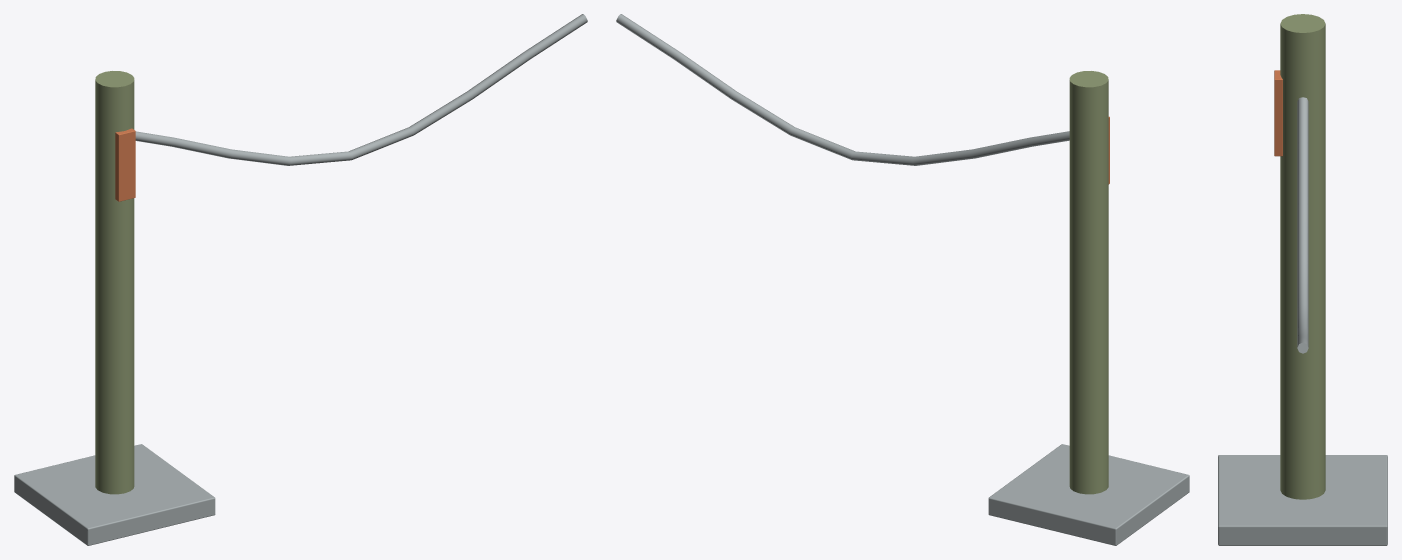
The model's file is extraction-routes-and-objectives-chain-barrier-post-f13ad455__22169.glb.
3 renders of one model, left to right at view 1: azimuth 30°, elevation 25°; view 2: azimuth 150°, elevation 25°; view 3: azimuth 270°, elevation 25°, orthographic. The views are drawn at different scales.
Parts seen in each view (by area): view 1: chain-barrier-post; view 2: chain-barrier-post; view 3: chain-barrier-post.
Boxes of the visible parts, left/top/right/bottom form: chain-barrier-post: left=14, top=14, right=587, bottom=545; chain-barrier-post: left=616, top=14, right=1189, bottom=545; chain-barrier-post: left=1218, top=14, right=1387, bottom=545.
Bounding box in the file's own units: 1.25 × 0.95 × 0.3.
